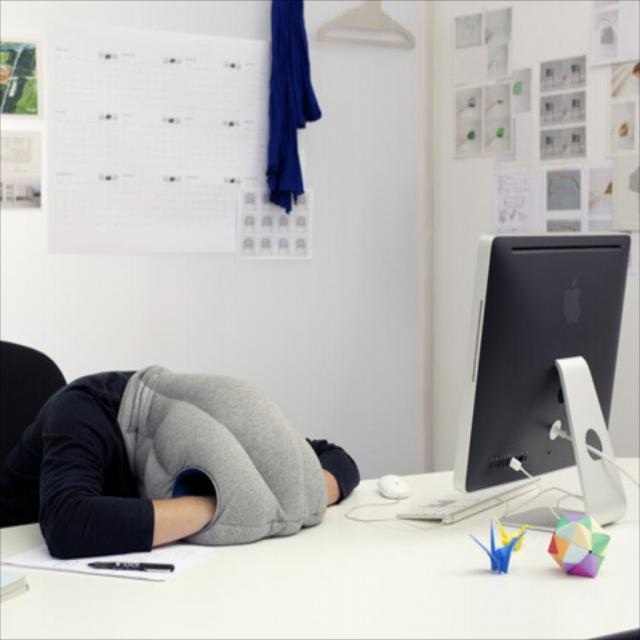chair: (1, 341, 67, 527)
desk: (0, 460, 639, 638)
laptop: (391, 232, 630, 526)
mouse: (376, 473, 411, 500)
person: (4, 365, 363, 559)
tv: (444, 231, 632, 501)
